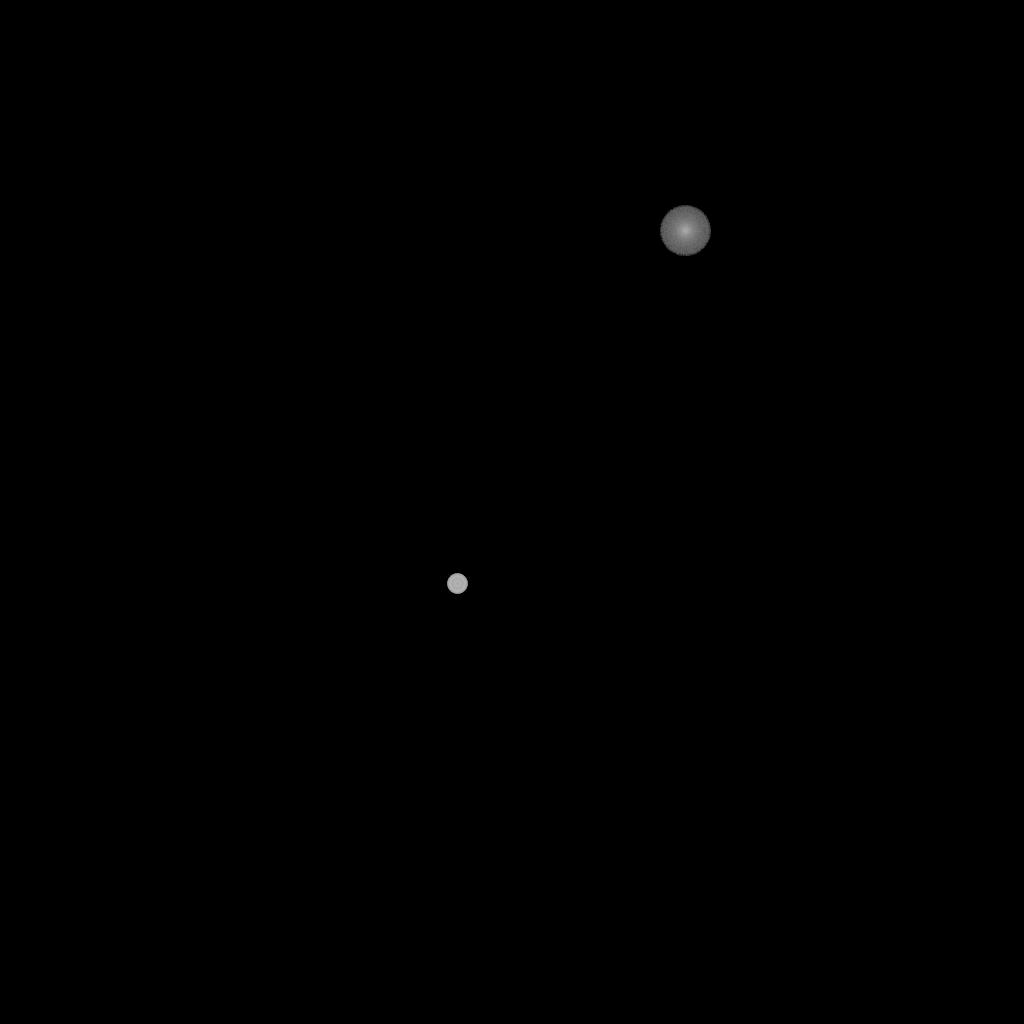depth:-40: (447, 574, 467, 594)
depth:20: (659, 206, 711, 256)
